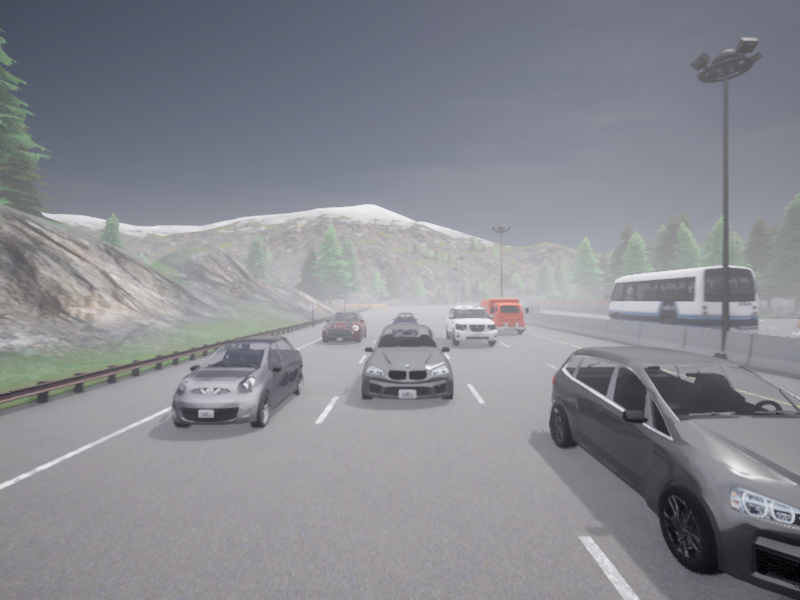vehicle: (550, 346, 799, 599), (171, 336, 303, 426), (605, 266, 758, 333), (361, 324, 453, 399), (446, 306, 496, 345), (481, 299, 528, 333), (322, 311, 366, 342), (393, 313, 417, 323), (527, 304, 539, 311), (522, 306, 525, 310)
